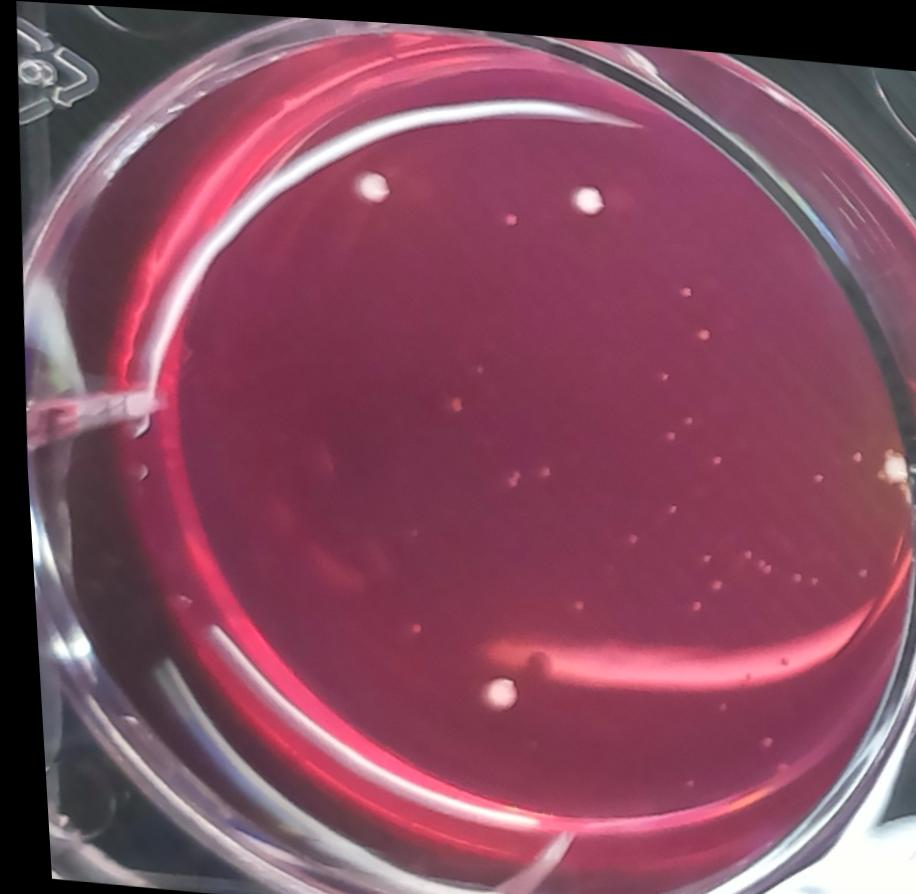staphylo-: (346, 156, 394, 205), (467, 661, 514, 708), (870, 434, 909, 479), (568, 171, 606, 214)
